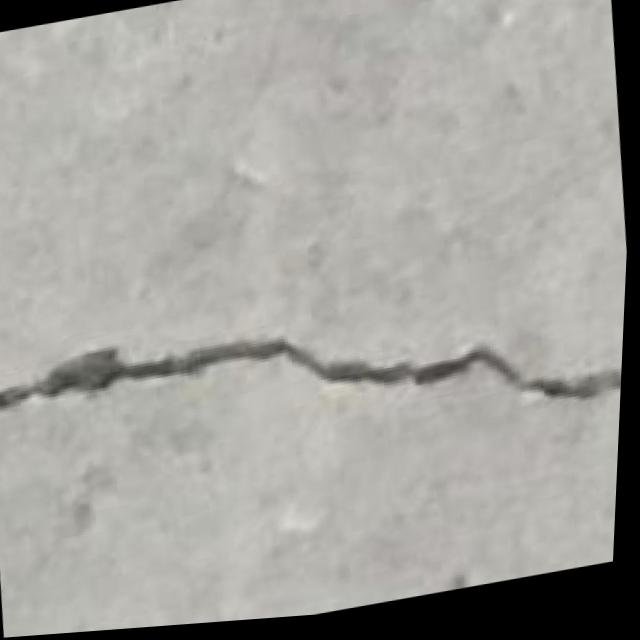Crack: (0, 251, 630, 511)
